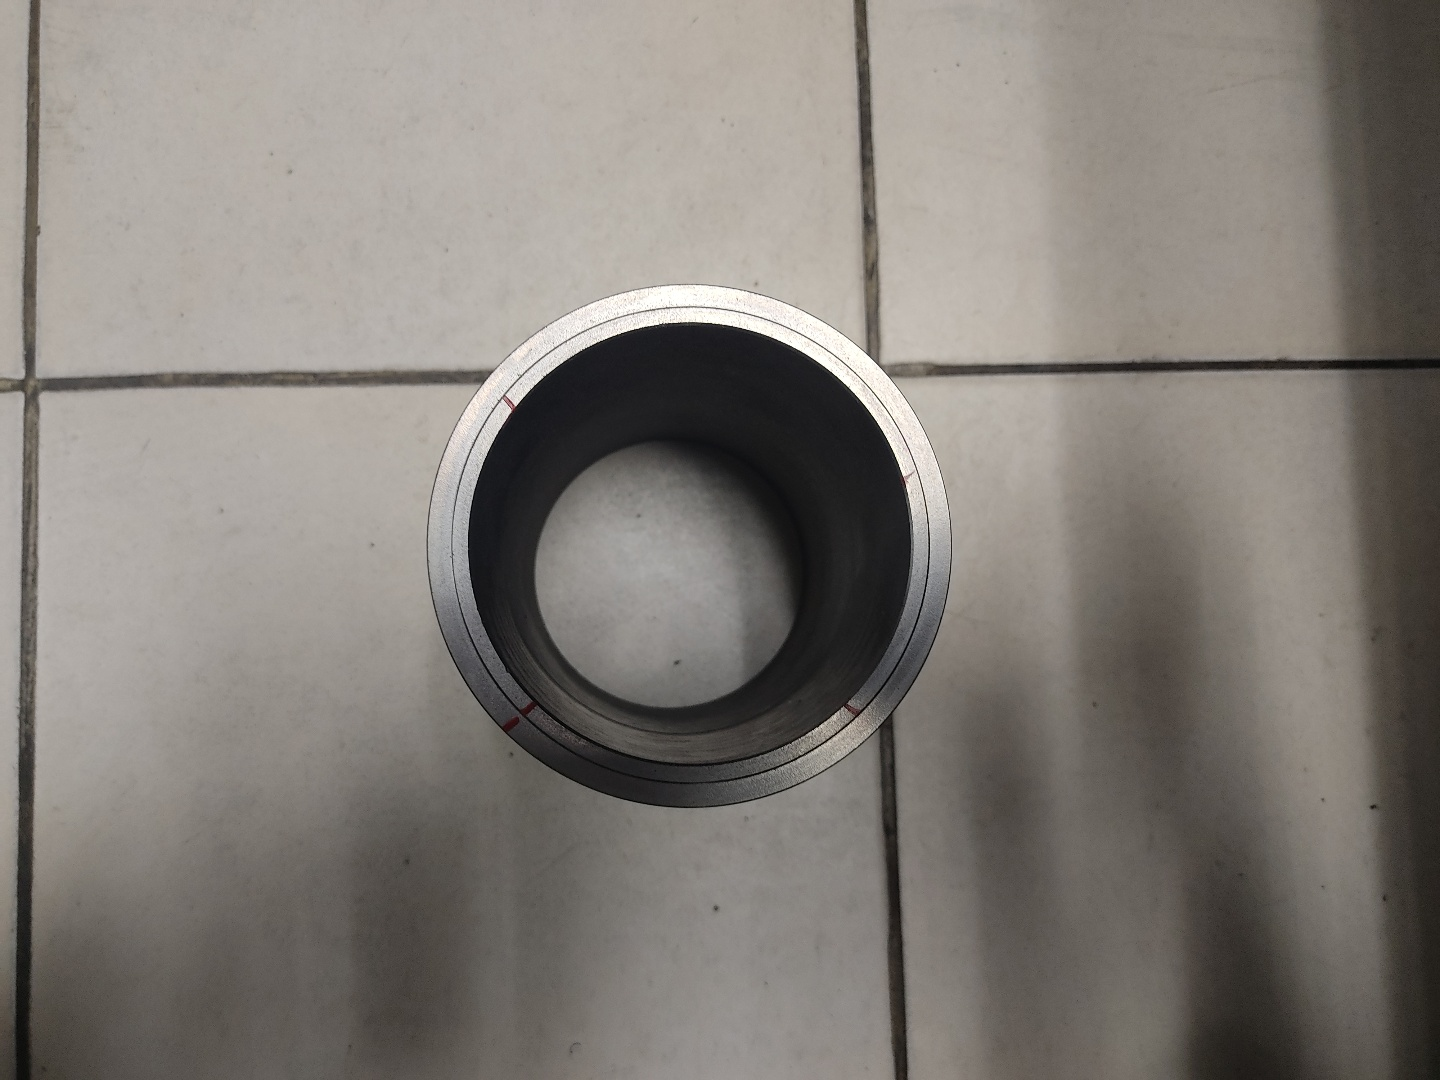cylinder: (420, 279, 962, 817)
